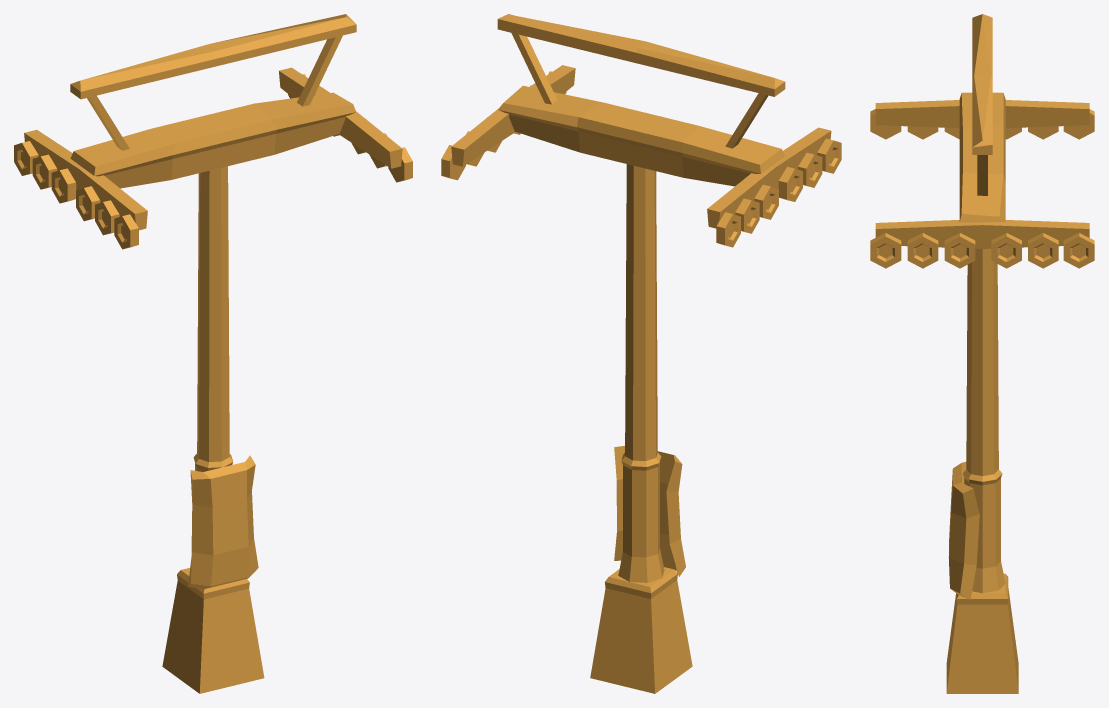
The model's file is ski-lift-stake.fbx.
3 renders of one model, left to right at view 1: azimuth 30°, elevation 25°; view 2: azimuth 150°, elevation 25°; view 3: azimuth 270°, elevation 25°, orthographic. The views are drawn at different scales.
Visible parts, largest first — view 1: ski-lift-stake; view 2: ski-lift-stake; view 3: ski-lift-stake.
Part boxes in pixels (left/top/right/bottom): ski-lift-stake: left=14, top=14, right=412, bottom=693; ski-lift-stake: left=441, top=14, right=841, bottom=693; ski-lift-stake: left=870, top=14, right=1094, bottom=693.
Bounding box in the file's own units: 4.28 × 9.04 × 3.04.
